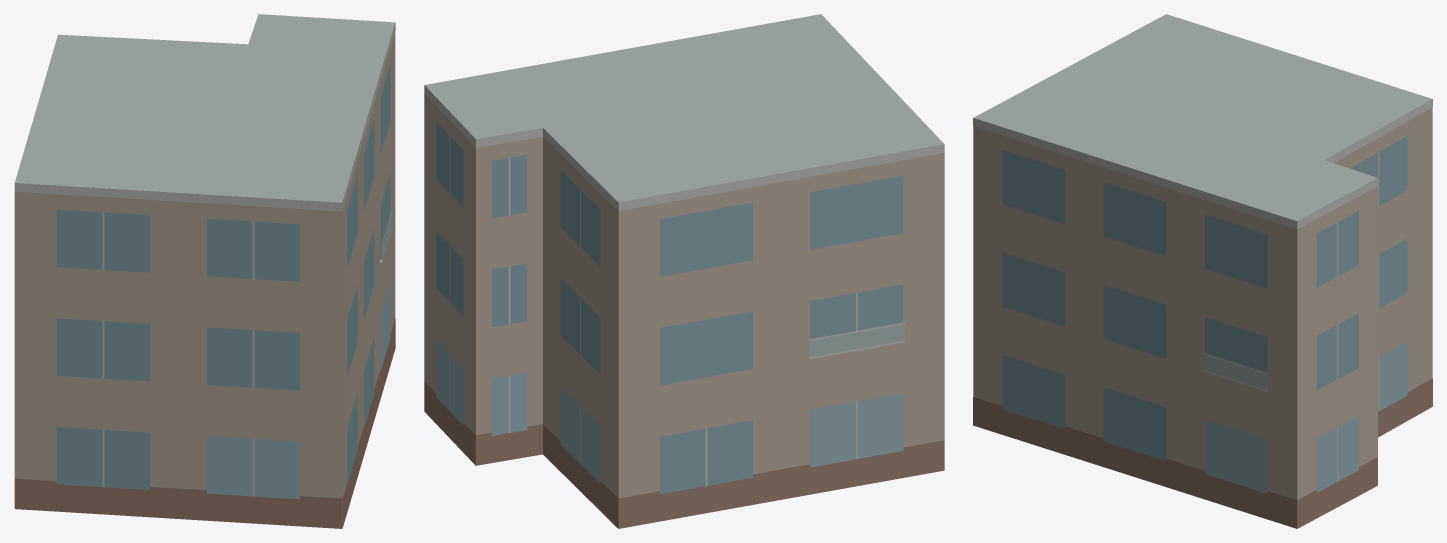
File: survey-upis-32711089.glb
The picture shows the model from 3 angles, left to right: view 1: azimuth 30°, elevation 25°; view 2: azimuth 150°, elevation 25°; view 3: azimuth 270°, elevation 25°; orthographic projection. The views are drawn at different scales.
Visible parts, largest first — view 1: survey-upis-32711089.tmp; view 2: survey-upis-32711089.tmp; view 3: survey-upis-32711089.tmp.
Boxes of the visible parts, x1,y1,x2,y2 form: survey-upis-32711089.tmp: [14, 14, 395, 528]; survey-upis-32711089.tmp: [424, 14, 944, 528]; survey-upis-32711089.tmp: [973, 14, 1432, 528].
Bounding box in the file's own units: 13.23 × 9.15 × 12.39.
